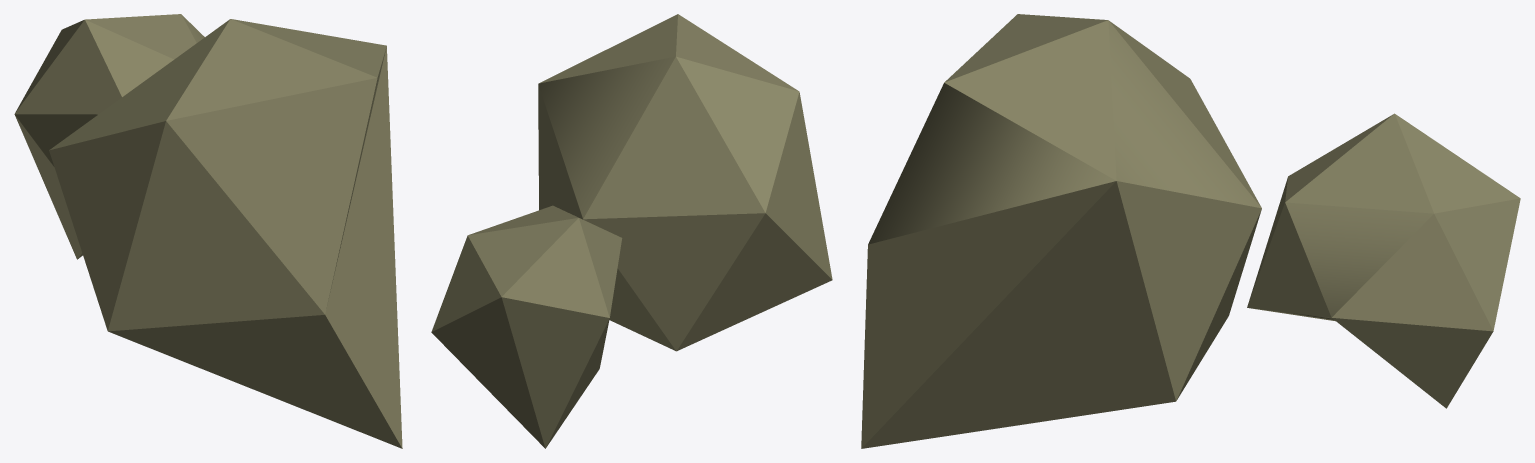
Rendered from Bush_3.fbx.
The picture shows the model from 3 angles, left to right: view 1: azimuth 30°, elevation 25°; view 2: azimuth 150°, elevation 25°; view 3: azimuth 270°, elevation 25°; orthographic projection. The views are drawn at different scales.
Visible parts, largest first — view 1: Bush5; view 2: Bush5; view 3: Bush5.
Part boxes in pixels (x1,y1,x2,y2): Bush5: (14, 14, 402, 448); Bush5: (431, 14, 832, 448); Bush5: (861, 14, 1520, 448).
Size of the model in its own units: 137 by 151 by 227.
